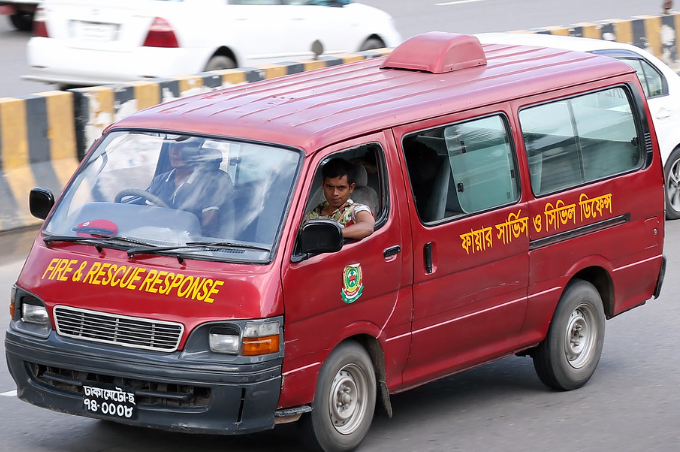Fire truck: (15, 27, 669, 446)
